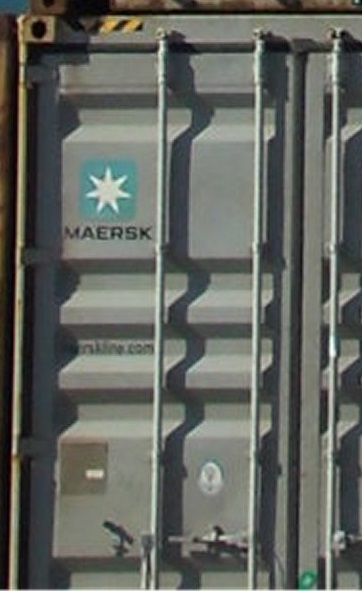container_door: (17, 15, 358, 587)
